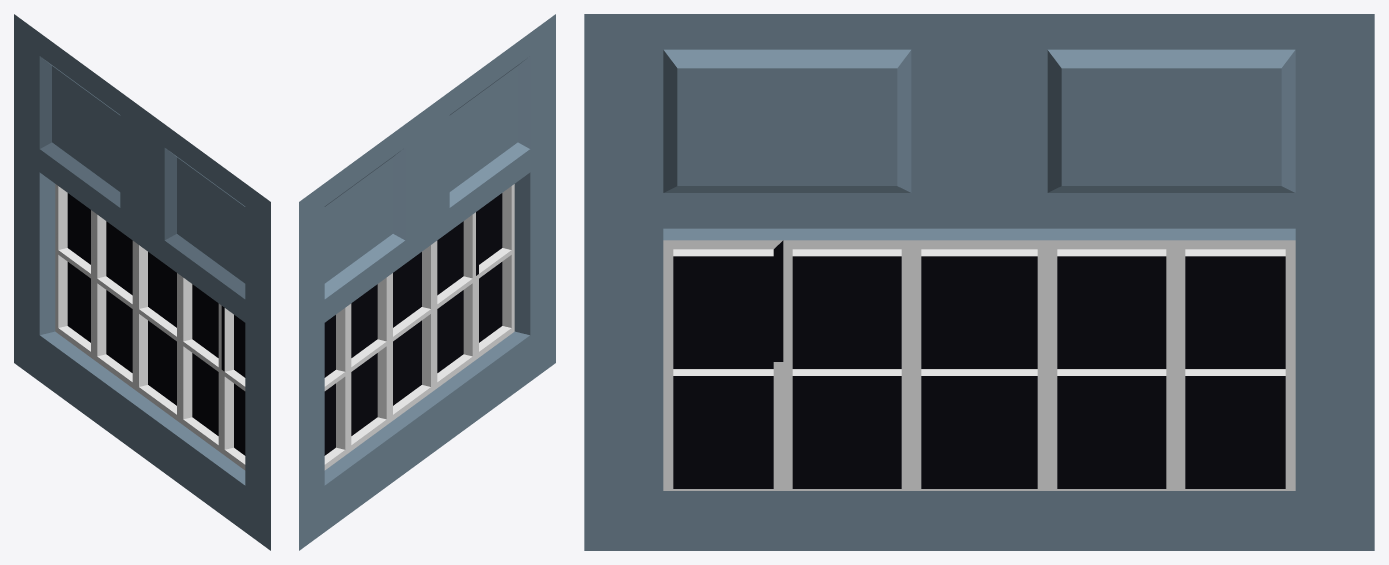
Rendered from B3_wall_window.FBX.
3 views of the same model, side by side, from view 1: azimuth 30°, elevation 25°; view 2: azimuth 150°, elevation 25°; view 3: azimuth 270°, elevation 25° (orthographic). The views are drawn at different scales.
Parts seen in each view (by area): view 1: B3_wall_window; view 2: B3_wall_window; view 3: B3_wall_window.
Part boxes in pixels (x1,y1,x2,y2): B3_wall_window: (14,14,270,550); B3_wall_window: (299,14,555,550); B3_wall_window: (584,14,1374,550).
Size of the model in its own units: 22.08 by 300 by 400.
